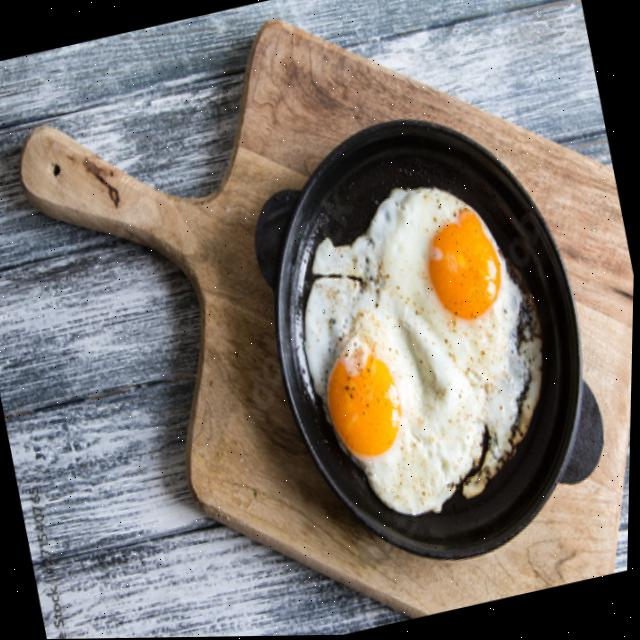Egg: (314, 189, 543, 487), (306, 278, 485, 516)
